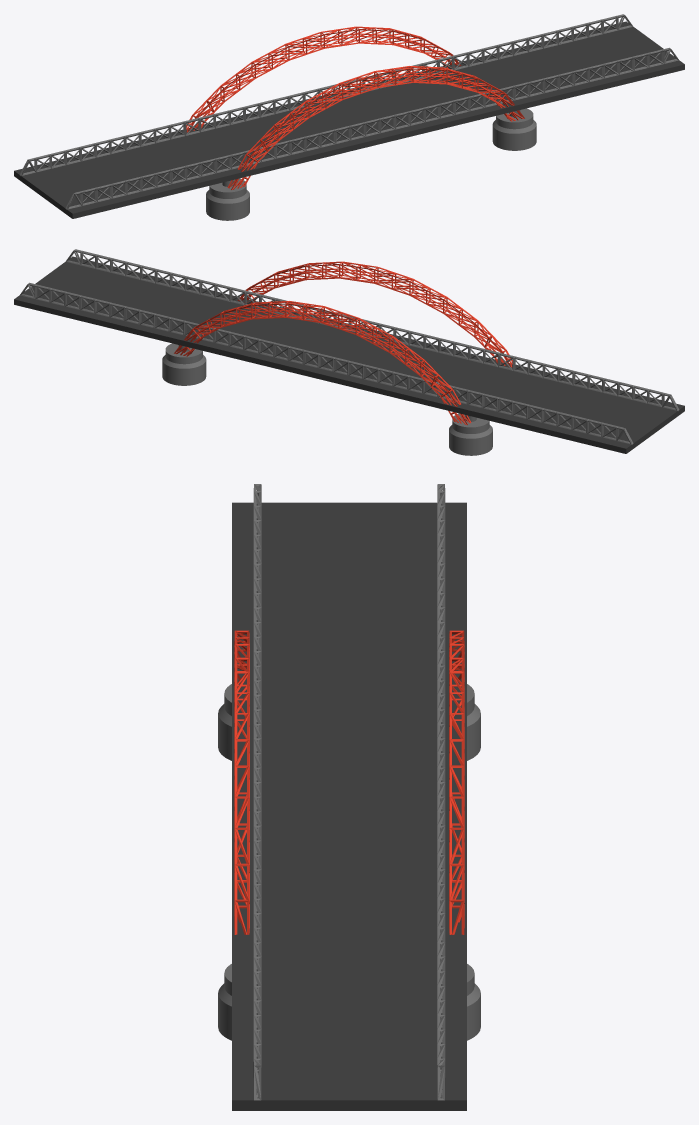
The model's file is PALANGKARAYA.fbx.
3 views of the same model, one above another, from view 1: azimuth 30°, elevation 25°; view 2: azimuth 150°, elevation 25°; view 3: azimuth 270°, elevation 25° (orthographic). The views are drawn at different scales.
Visible parts, largest first — view 1: Cube.001; view 2: Cube.001; view 3: Cube.001.
Part boxes in pixels (x1,y1,x2,y2): Cube.001: (14, 14, 684, 220); Cube.001: (14, 249, 684, 455); Cube.001: (218, 484, 480, 1110).
Size of the model in its own units: 788 by 133 by 146.
